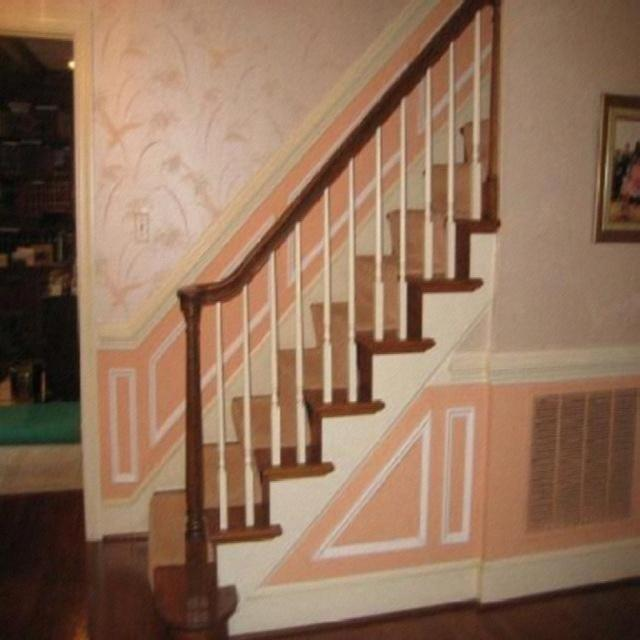stair: (148, 116, 503, 640)
